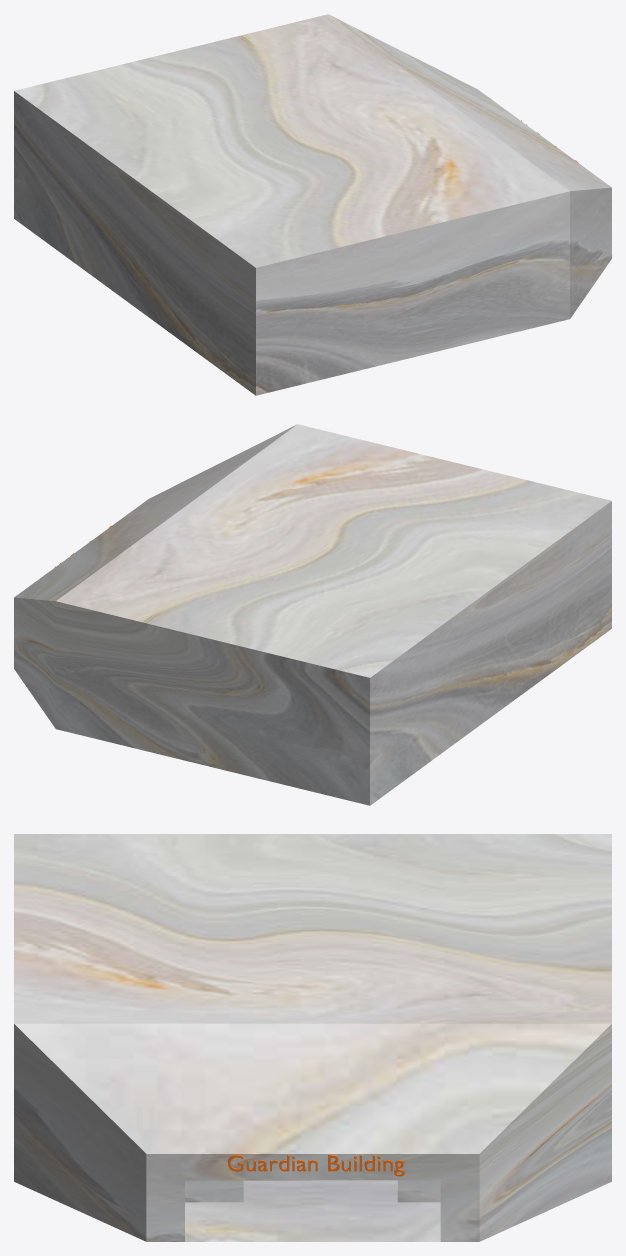
File: Guardian Building.fbx
3 views of the same model, one above another, from view 1: azimuth 30°, elevation 25°; view 2: azimuth 150°, elevation 25°; view 3: azimuth 270°, elevation 25° (orthographic). The views are drawn at different scales.
Visible parts, largest first — view 1: GuardianBuilding; view 2: GuardianBuilding; view 3: GuardianBuilding, Guardian.
Boxes of the visible parts, x1,y1,x2,y2 form: GuardianBuilding: (14, 14, 611, 395); GuardianBuilding: (14, 424, 611, 805); GuardianBuilding: (14, 834, 611, 1241); Guardian: (228, 1154, 404, 1176).
Size of what is drawn, in the model's own units: 4714 by 1424 by 4802.
2 materials, 2 textured.
